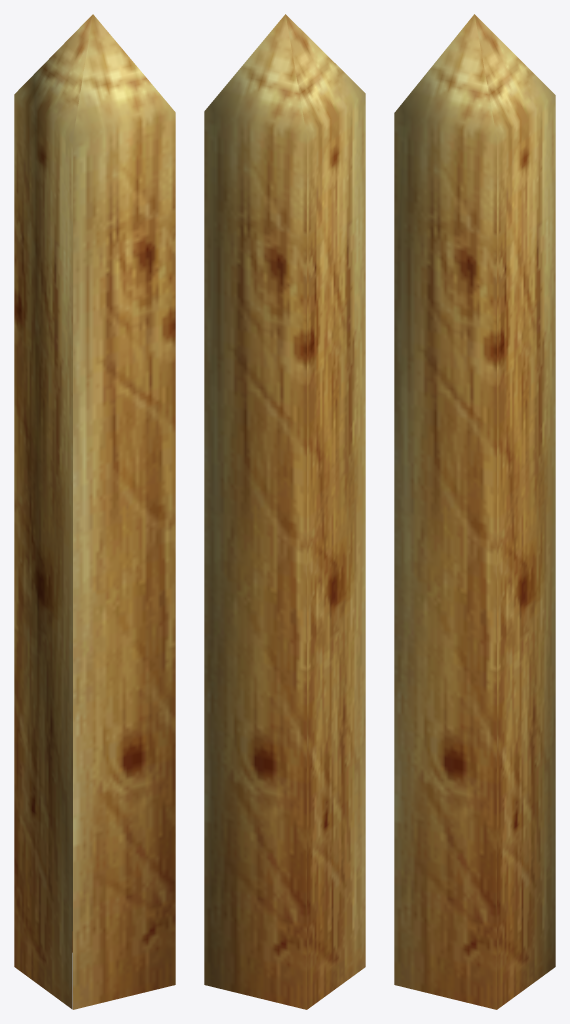
File: elwynnwoodpost01.glb
3 renders of one model, left to right at view 1: azimuth 30°, elevation 25°; view 2: azimuth 150°, elevation 25°; view 3: azimuth 330°, elevation 25°, orthographic.
Size of the model in its own units: 0.2748 by 2.46 by 0.2725.
Materials: 1 (1 with a texture image).
